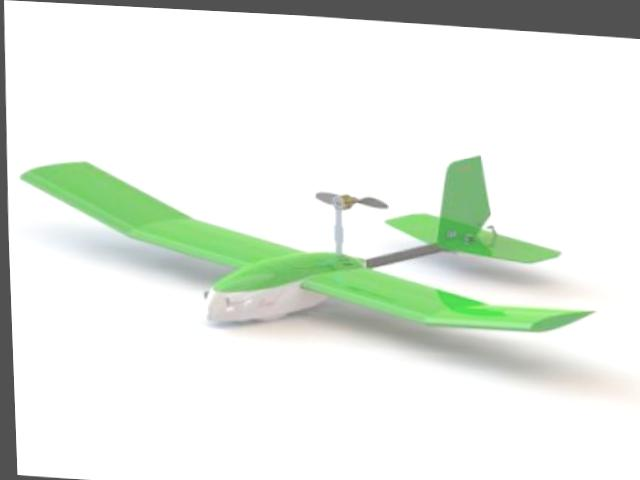uav: (12, 119, 600, 346)
